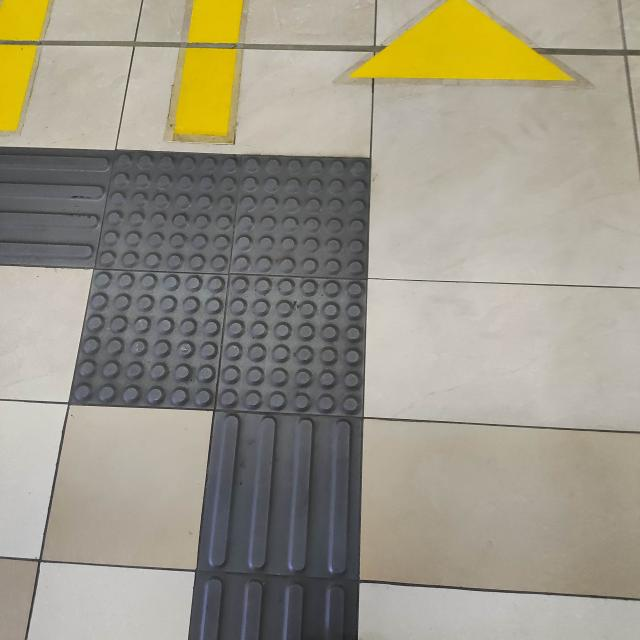kiri: (0, 94, 441, 490)
